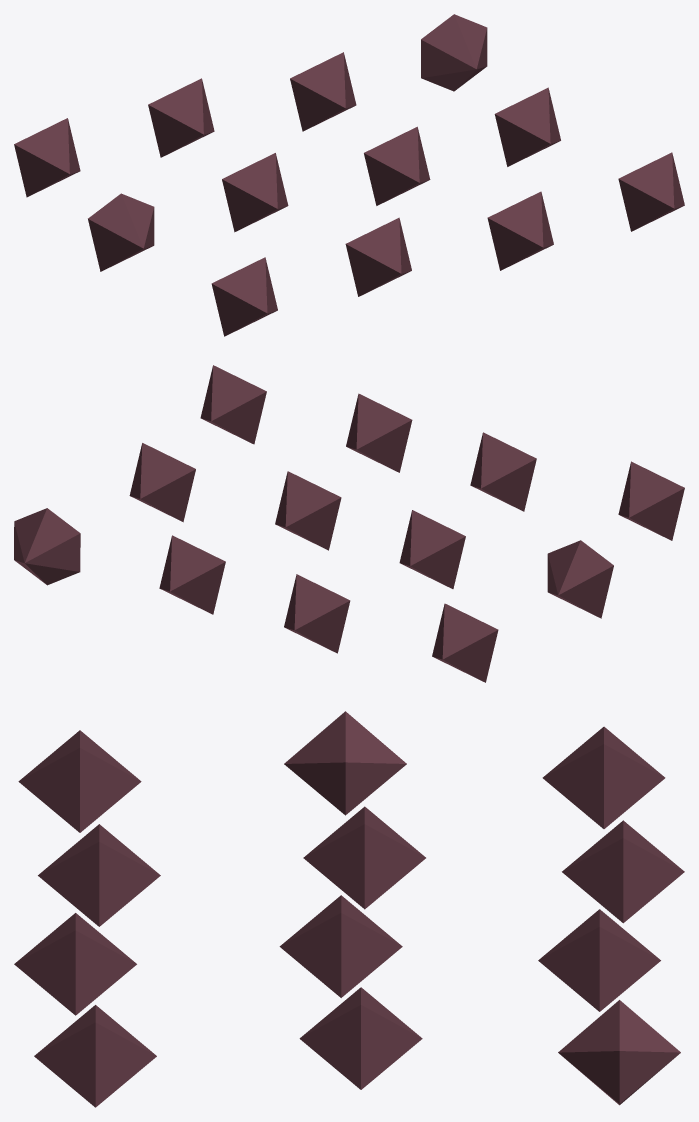
Rendered from Corn-2.fbx.
The picture shows the model from 3 angles, top to bottom: view 1: azimuth 30°, elevation 25°; view 2: azimuth 150°, elevation 25°; view 3: azimuth 270°, elevation 25°; orthographic projection. The views are drawn at different scales.
Parts seen in each view (by area): view 1: Corn-2; view 2: Corn-2; view 3: Corn-2.
Part boxes in pixels (x1,y1,x2,y2): Corn-2: [14, 14, 684, 336]; Corn-2: [14, 365, 684, 682]; Corn-2: [14, 711, 684, 1107].
Bounding box in the file's own units: 68.28 × 10 × 57.53.
